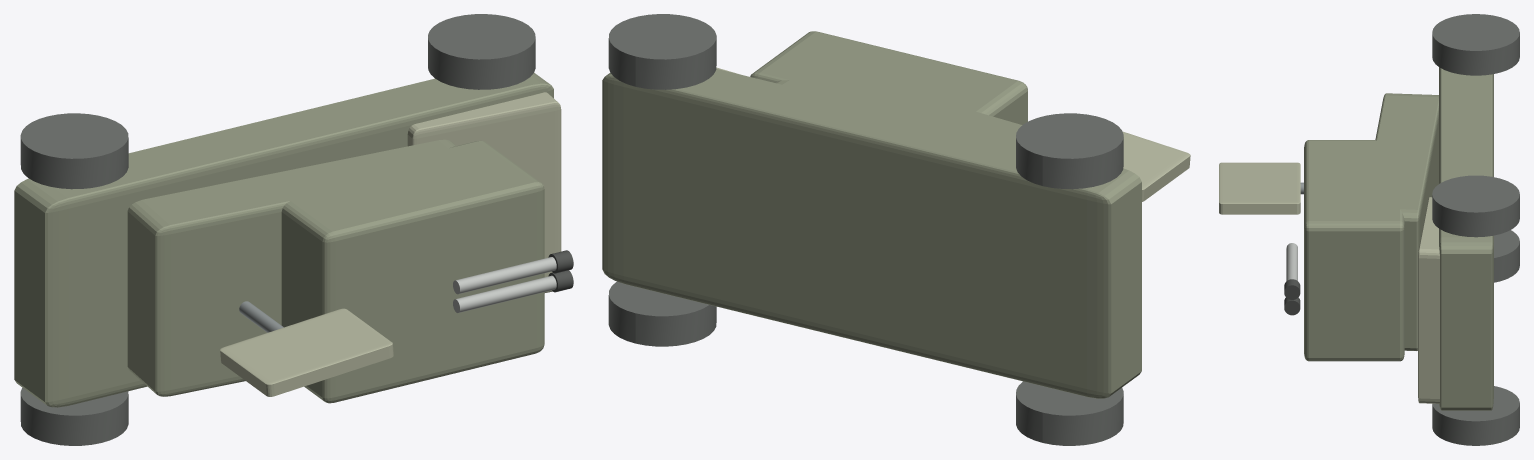
The model's file is v-u11-vanguard-recon-vehicle-lod1.glb.
The picture shows the model from 3 angles, left to right: view 1: azimuth 30°, elevation 25°; view 2: azimuth 150°, elevation 25°; view 3: azimuth 270°, elevation 25°; orthographic projection. The views are drawn at different scales.
Parts seen in each view (by area): view 1: recon_cabin, chassis_lower, upper_hull, recon_sensor_array, chassis_nose, chassis_wheel_1_0, chassis_wheel_1_1, chassis_wheel_-1_0, recon_gun_barrel_0, recon_gun_barrel_1, recon_sensor_mast; view 2: chassis_lower, recon_cabin, chassis_wheel_1_1, chassis_wheel_1_0, chassis_wheel_-1_0, chassis_wheel_-1_1, upper_hull, recon_sensor_array; view 3: recon_cabin, chassis_lower, upper_hull, chassis_wheel_1_1, chassis_wheel_1_0, recon_sensor_array, chassis_nose, chassis_wheel_-1_1, chassis_wheel_-1_0, recon_gun_barrel_1, recon_gun_muzzle_1.
Part boxes in pixels (box(x1,y1,x2,y2)): recon_cabin: box(281, 141, 544, 403); chassis_lower: box(14, 72, 553, 407); upper_hull: box(127, 139, 466, 396); recon_sensor_array: box(220, 308, 393, 396); chassis_nose: box(407, 92, 561, 292); chassis_wheel_1_0: box(20, 113, 128, 189); chassis_wheel_1_1: box(428, 14, 535, 89); chassis_wheel_-1_0: box(20, 387, 128, 445); recon_gun_barrel_0: box(453, 275, 556, 312); recon_gun_barrel_1: box(453, 257, 556, 294); recon_sensor_mast: box(239, 301, 283, 332); chassis_lower: box(602, 68, 1141, 398); recon_cabin: box(750, 31, 1027, 124); chassis_wheel_1_1: box(608, 14, 716, 89); chassis_wheel_1_0: box(1016, 113, 1123, 189); chassis_wheel_-1_0: box(1016, 381, 1123, 445); chassis_wheel_-1_1: box(608, 281, 716, 346); upper_hull: box(775, 65, 1022, 141); recon_sensor_array: box(1122, 131, 1190, 201); recon_cabin: box(1304, 140, 1404, 361); chassis_lower: box(1439, 67, 1493, 410); upper_hull: box(1365, 93, 1438, 350); chassis_wheel_1_1: box(1432, 175, 1519, 237); chassis_wheel_1_0: box(1432, 14, 1519, 75); recon_sensor_array: box(1219, 162, 1300, 214); chassis_nose: box(1418, 197, 1439, 403); chassis_wheel_-1_1: box(1432, 386, 1519, 445); chassis_wheel_-1_0: box(1494, 230, 1519, 282); recon_gun_barrel_1: box(1286, 243, 1297, 280); recon_gun_muzzle_1: box(1284, 279, 1300, 299).
Size of what is drawn, in the model's own units: 4.52 by 2.44 by 2.85.
